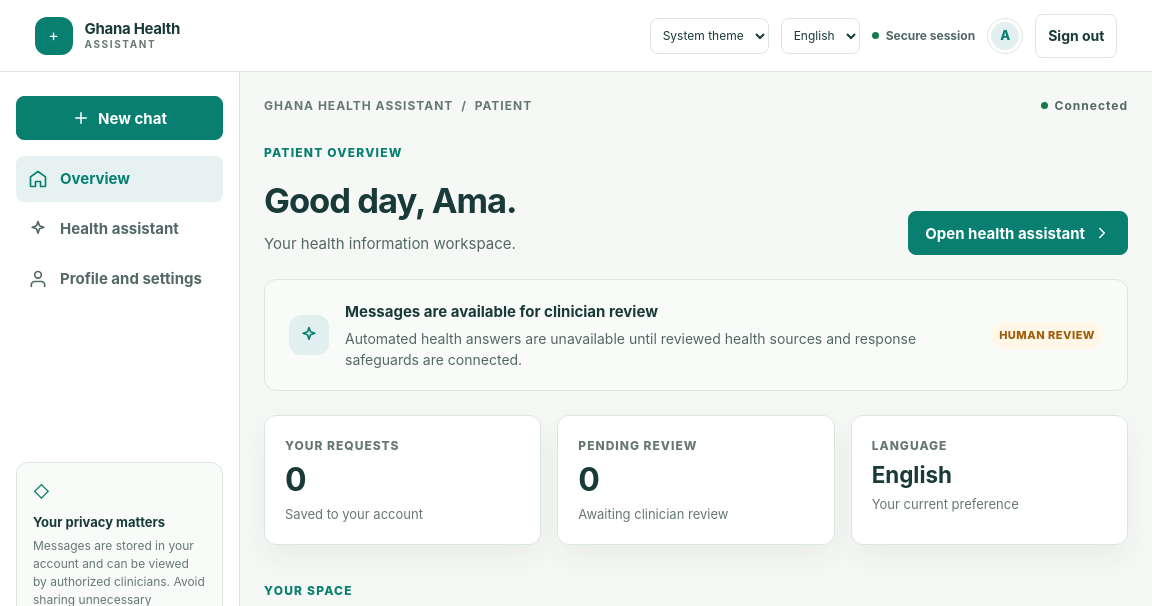
chat workspace › has no detectable accessibility violations in the chat workspace
What coordinates should you click on to do the following:
click the button "Health assistant"
I would click on:
 (120, 229)
Its box is top-left (16, 206), bottom-right (223, 252).
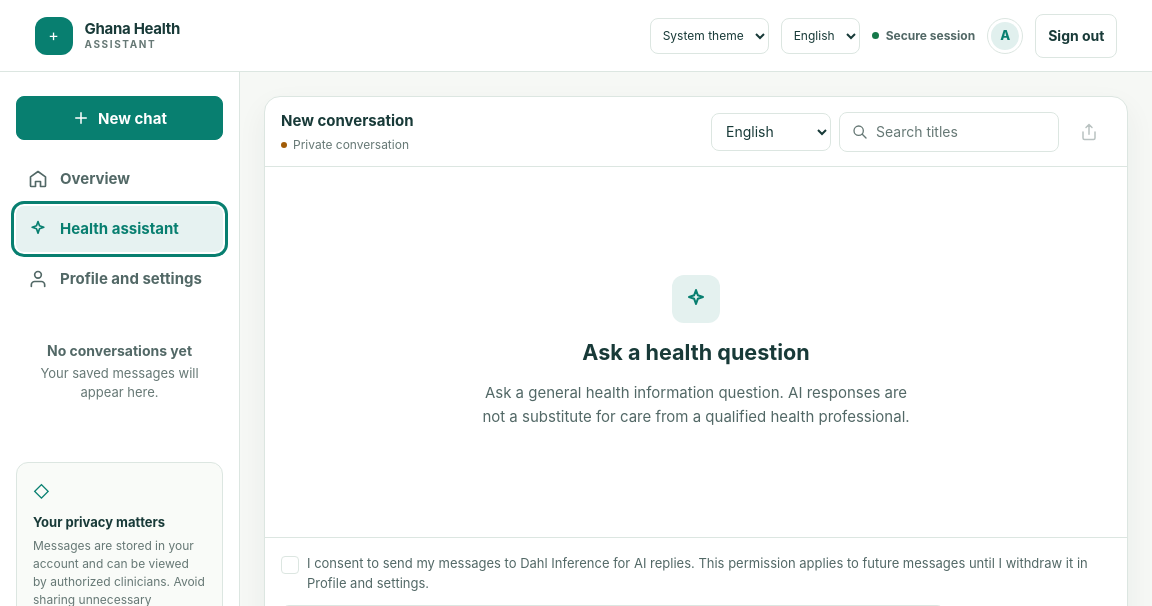
Check: the heading "Ask a health question" is shown, box top-left (582, 335), bottom-right (810, 369)
